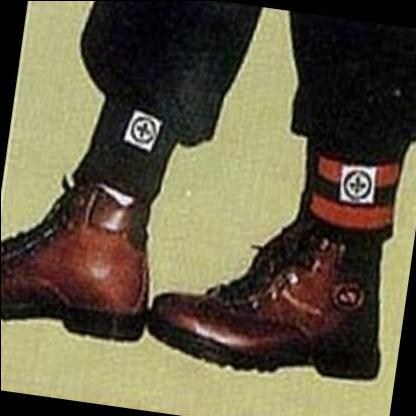safety-shoe: (137, 195, 386, 412), (1, 163, 179, 361)
